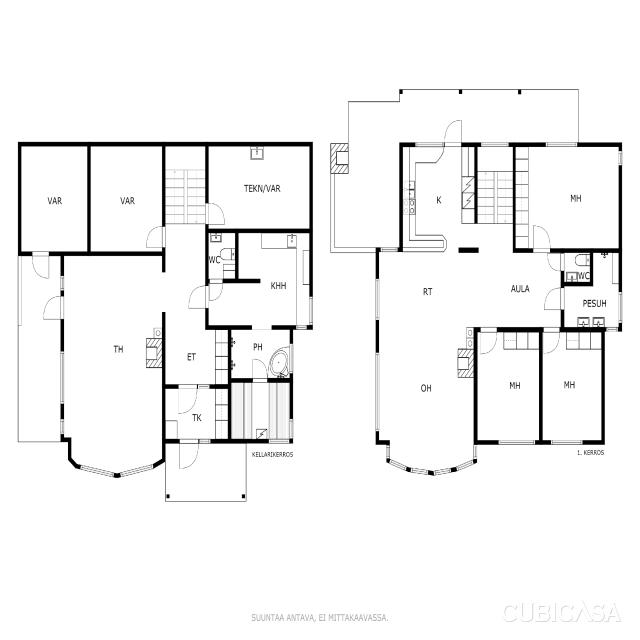door: (62, 254, 162, 458), (177, 438, 201, 472), (175, 383, 199, 417), (40, 292, 66, 322), (530, 222, 553, 254), (442, 118, 465, 148), (142, 223, 167, 250), (185, 283, 210, 310), (204, 200, 229, 227), (478, 327, 499, 358), (30, 252, 51, 282), (541, 286, 565, 312), (542, 326, 562, 356), (250, 355, 270, 384), (545, 250, 564, 273), (207, 279, 224, 304), (192, 203, 210, 226)
window: (373, 350, 383, 435), (58, 348, 67, 410), (494, 436, 538, 448), (542, 138, 581, 150), (374, 276, 383, 325), (549, 436, 586, 447), (478, 138, 512, 149), (412, 139, 445, 150), (282, 421, 297, 443), (307, 294, 315, 328), (617, 289, 624, 325), (268, 436, 291, 445), (290, 341, 296, 374), (379, 245, 400, 254), (288, 416, 295, 442), (197, 436, 213, 446), (604, 323, 620, 333), (617, 148, 624, 168), (60, 416, 66, 436), (297, 325, 309, 332)
zone: (61, 250, 164, 459), (377, 255, 472, 444), (516, 144, 621, 251), (204, 146, 312, 229), (88, 144, 165, 254), (19, 145, 89, 254), (475, 329, 541, 443), (404, 144, 476, 247), (235, 231, 312, 326), (540, 328, 604, 442), (473, 250, 562, 326), (561, 253, 622, 330), (163, 324, 230, 387), (230, 379, 292, 442), (163, 385, 231, 441), (230, 326, 292, 381), (207, 230, 237, 283), (562, 252, 592, 283)
